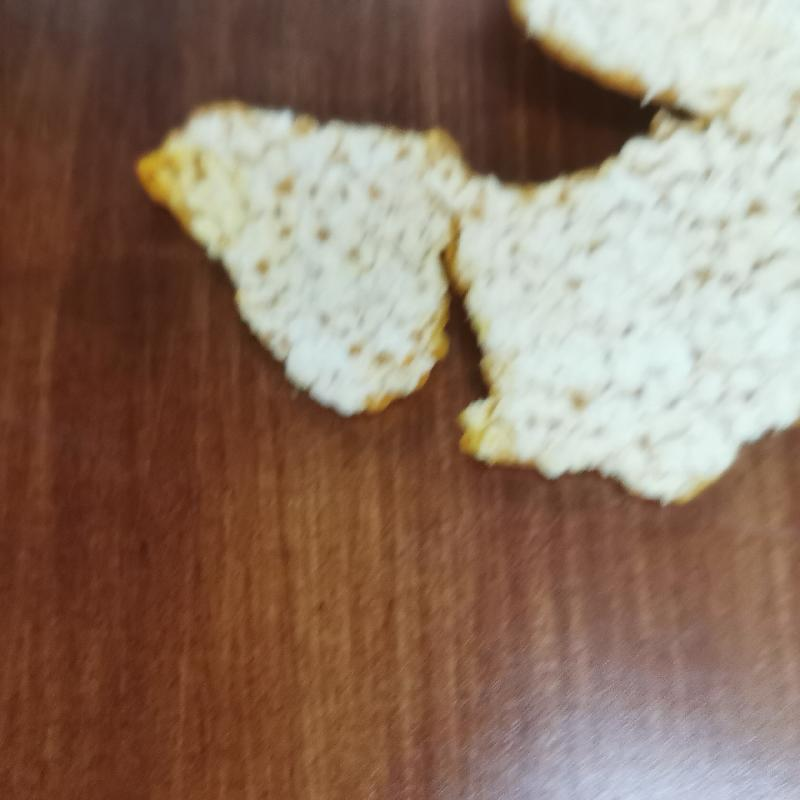orange: (135, 0, 799, 513)
